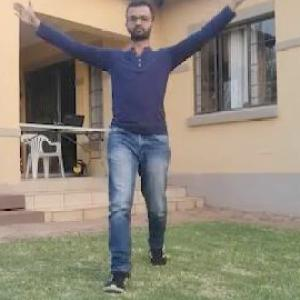takeoff: (2, 0, 240, 291)
